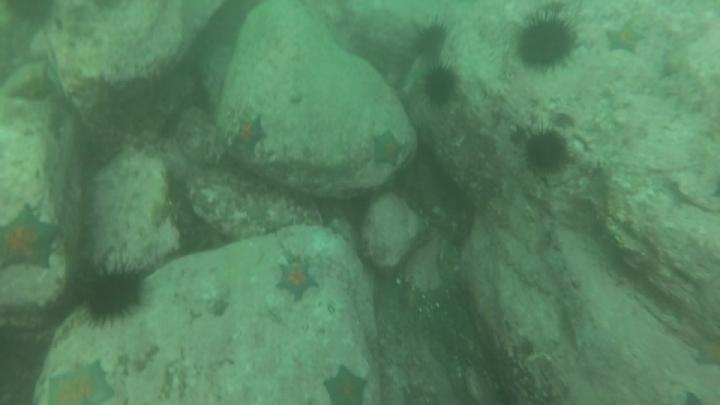echinus: (78, 261, 150, 328), (512, 11, 581, 74), (521, 126, 571, 175), (420, 63, 461, 108), (0, 1, 63, 30), (409, 19, 451, 61)
starfish: (0, 203, 62, 274), (43, 358, 117, 405), (272, 256, 322, 303), (320, 363, 371, 405), (366, 128, 408, 170), (229, 112, 269, 155), (603, 20, 647, 57), (690, 332, 720, 371)
